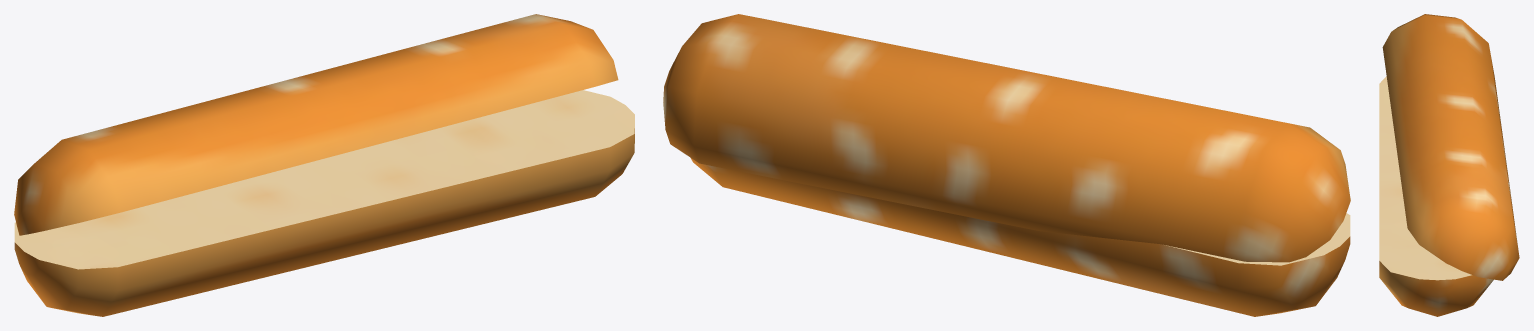
Rendered from DoubleCooked_Baguette.fbx.
3 renders of one model, left to right at view 1: azimuth 30°, elevation 25°; view 2: azimuth 150°, elevation 25°; view 3: azimuth 270°, elevation 25°, orthographic. The views are drawn at different scales.
Parts seen in each view (by area): view 1: DoubleCooked_Baguette; view 2: DoubleCooked_Baguette; view 3: DoubleCooked_Baguette.
Boxes of the visible parts, <box> form: DoubleCooked_Baguette: <box>14,14,634,316</box>; DoubleCooked_Baguette: <box>663,14,1350,316</box>; DoubleCooked_Baguette: <box>1379,14,1519,316</box>.
Bounding box in the file's own units: 31.34 × 8.41 × 8.58.
Materials: 1 (1 with a texture image).
